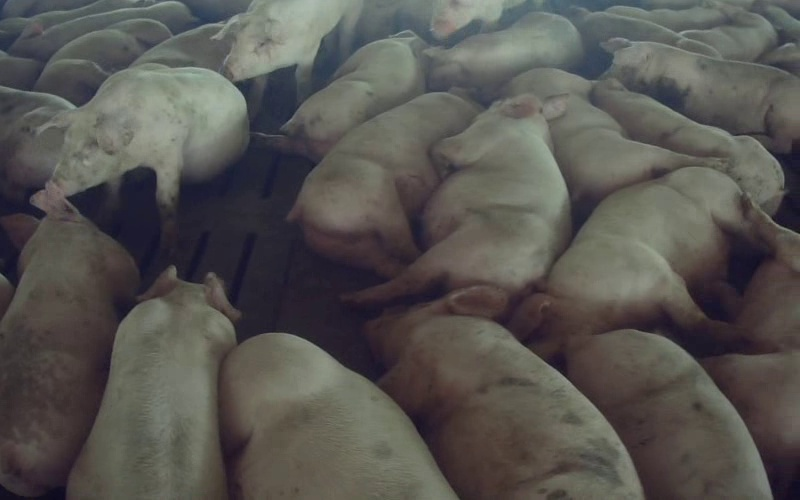pig: (366, 286, 642, 499), (509, 167, 799, 356), (349, 94, 570, 303), (0, 182, 138, 496), (33, 64, 248, 251), (67, 266, 239, 499), (219, 333, 456, 499), (288, 89, 481, 277), (503, 68, 722, 229), (565, 329, 771, 499), (591, 79, 783, 214), (253, 31, 425, 162), (602, 38, 799, 152), (424, 12, 583, 96)
